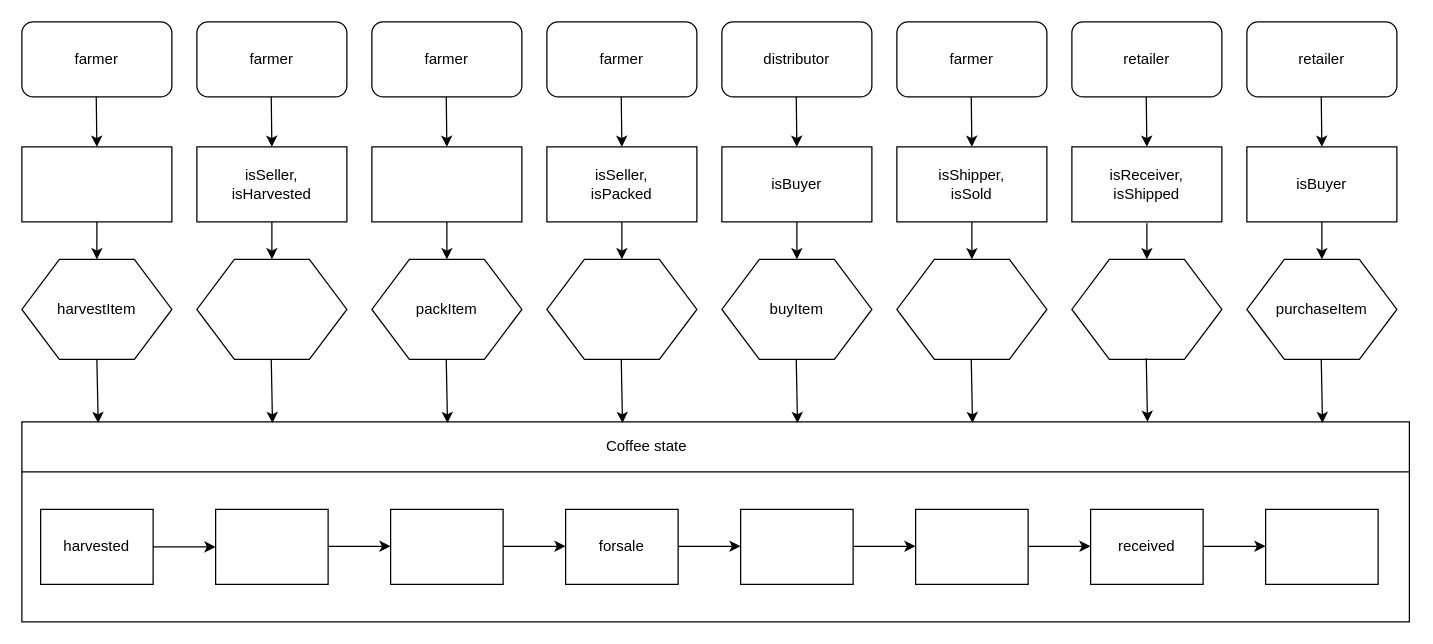
This 1433x644 diagram has some shape labels left out. Each missing label, with the centre of its shape:
addItem: pixel 621 308
isSeller: pixel 96 184
isSeller, isProcessed: pixel 446 184
packed: pixel 446 546
processed: pixel 271 546
processItem: pixel 271 308
purchased: pixel 1321 546
receiveItem: pixel 1146 308
shipItem: pixel 971 308
shipped: pixel 971 546
sold: pixel 796 546
